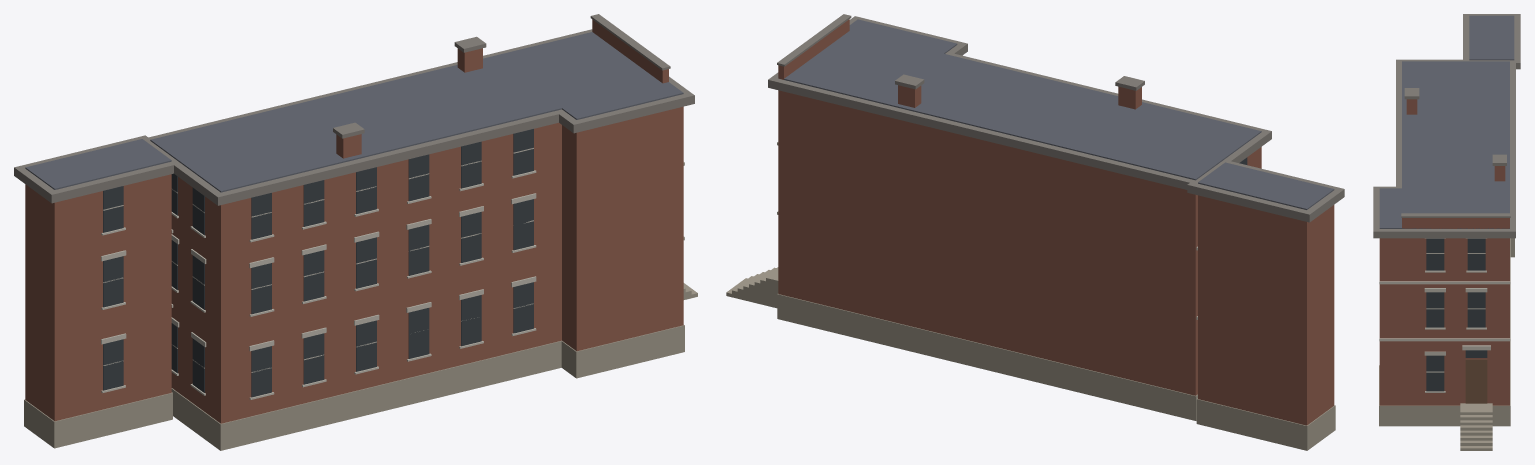
The model's file is house_1708_prairie__draft_1904.glb.
3 renders of one model, left to right at view 1: azimuth 30°, elevation 25°; view 2: azimuth 150°, elevation 25°; view 3: azimuth 270°, elevation 25°, orthographic. The views are drawn at different scales.
Visible parts, largest first — view 1: house_1708_prairie__draft_1904; view 2: house_1708_prairie__draft_1904; view 3: house_1708_prairie__draft_1904.
Boxes of the visible parts, bbox=[...] form: house_1708_prairie__draft_1904: bbox=[14, 14, 697, 450]; house_1708_prairie__draft_1904: bbox=[726, 14, 1344, 450]; house_1708_prairie__draft_1904: bbox=[1373, 14, 1520, 450].
Bounding box in the file's own units: 31.65 × 13.34 × 8.2.
